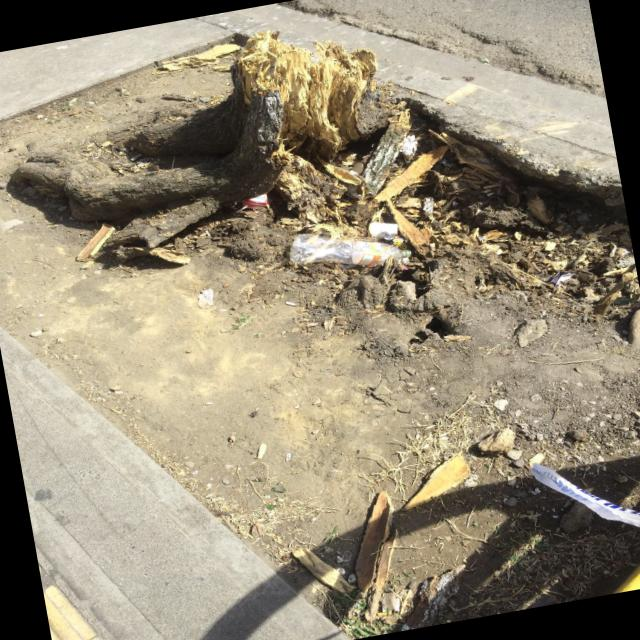less trash: (289, 233, 410, 266)
